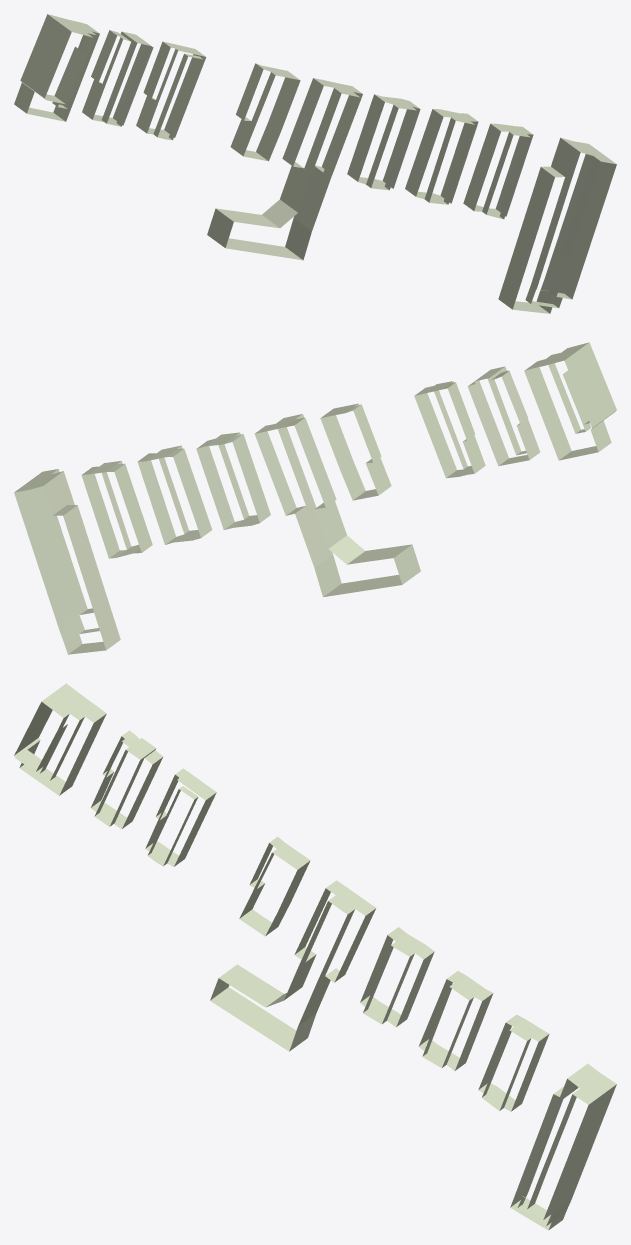
File: Wall_Hini_2.0_Slope_1.0.obj
3 views of the same model, one above another, from view 1: azimuth 30°, elevation 25°; view 2: azimuth 150°, elevation 25°; view 3: azimuth 330°, elevation 25° (orthographic).
Visible parts, largest first — view 1: 1, 5, 9, 4, 3, 7, 8, 2, 6; view 2: 1, 5, 9, 4, 3, 2, 8, 7, 6; view 3: 5, 1, 9, 3, 4, 2, 8, 7, 6.
Boxes of the visible parts, x1,y1,x2,y2 form: 1: (498,137,616,313); 5: (207,78,362,260); 9: (14,14,99,121); 4: (405,109,478,204); 3: (347,94,420,190); 7: (136,41,206,140); 8: (82,30,153,126); 2: (463,123,533,219); 6: (230,63,300,161); 1: (14,469,120,654); 5: (254,414,420,597); 9: (524,342,616,460); 4: (137,445,212,544); 3: (196,432,270,529); 2: (81,461,152,558); 8: (467,366,540,465); 7: (414,381,485,478); 6: (320,403,391,500); 5: (210,880,376,1051); 1: (510,1063,616,1230); 9: (14,683,106,795); 3: (360,927,434,1027); 4: (418,971,493,1070); 2: (478,1014,549,1111); 8: (91,730,163,829); 7: (145,768,216,866); 6: (239,836,310,936).
Bounding box in the file's own units: 136 × 92 × 11.42.
